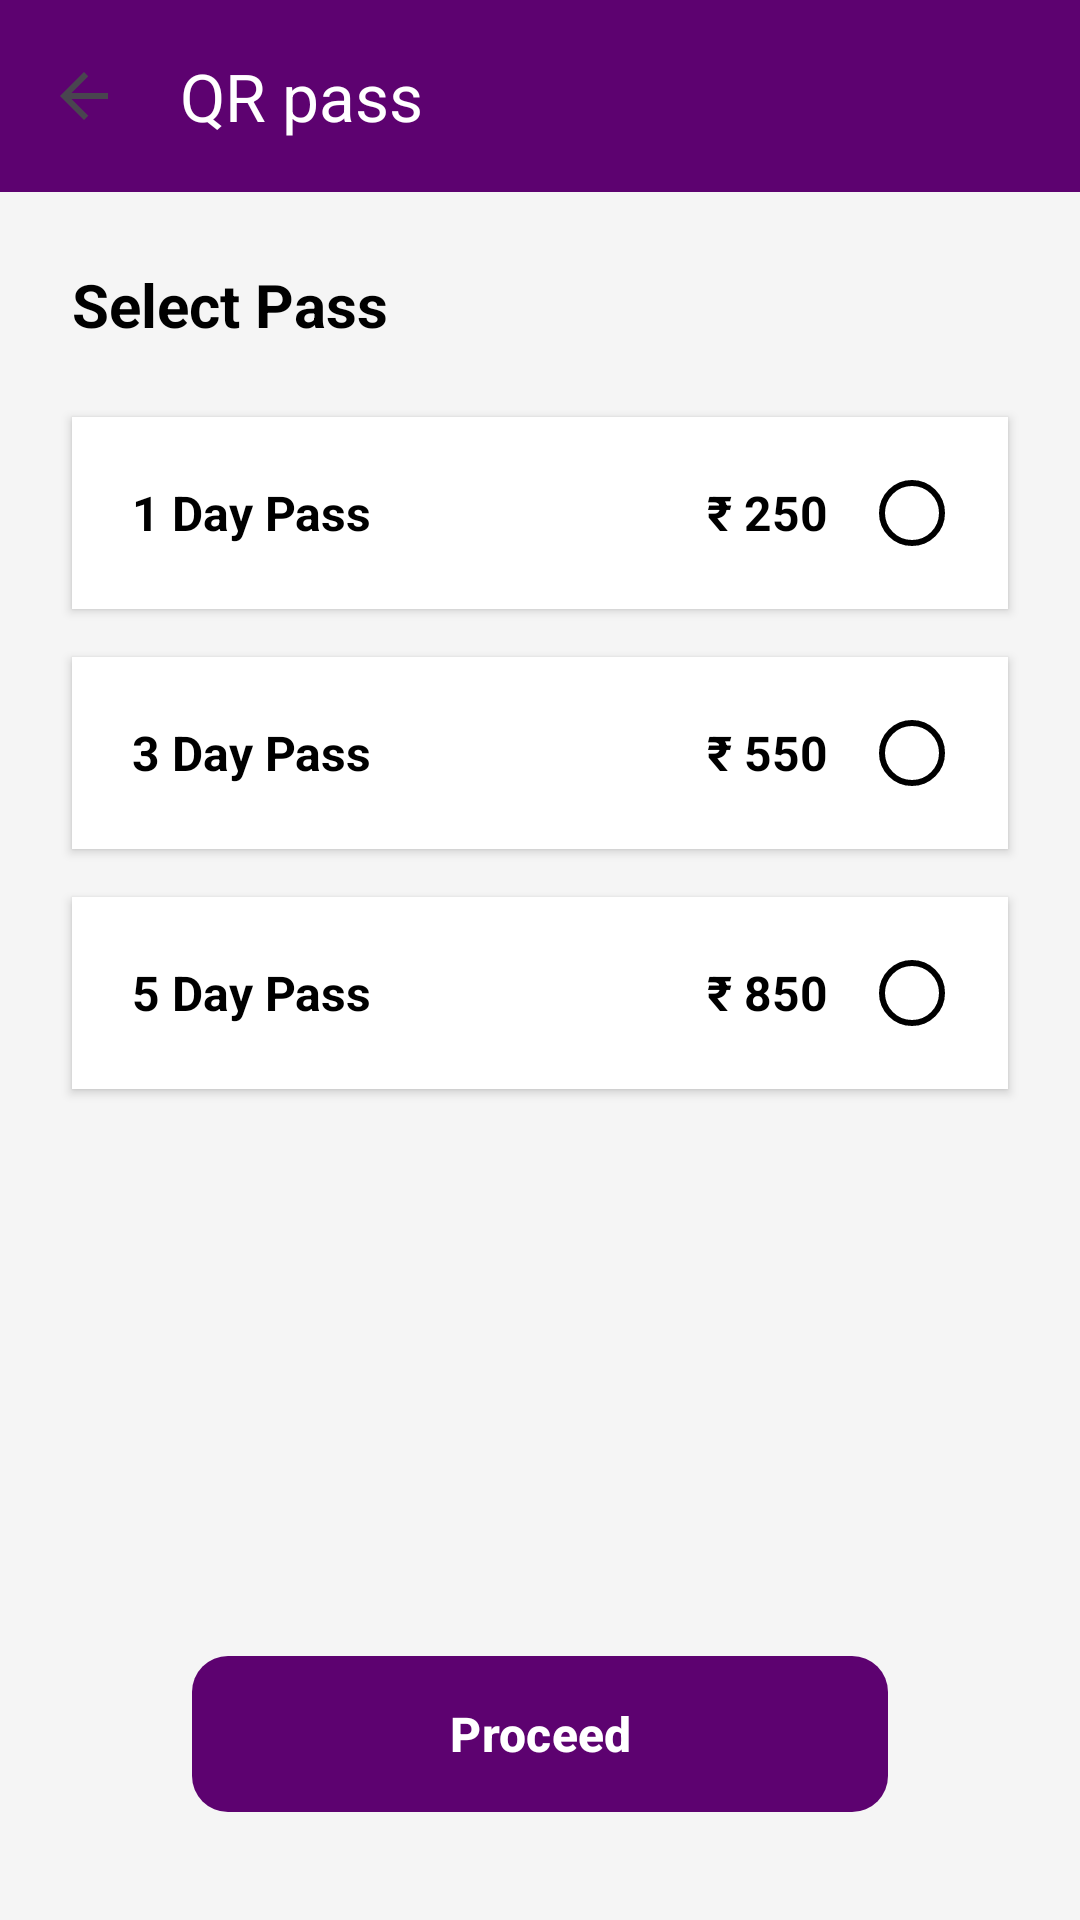

Point at icon controls on the screen. Image size 1080 × 1920, points as (x,y).
radio: (912,513), (912,753), (912,993)
